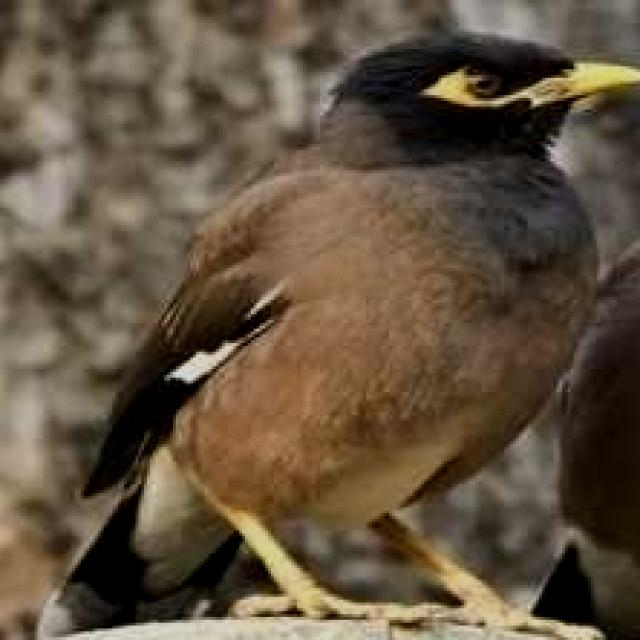bird: (29, 14, 640, 640)
